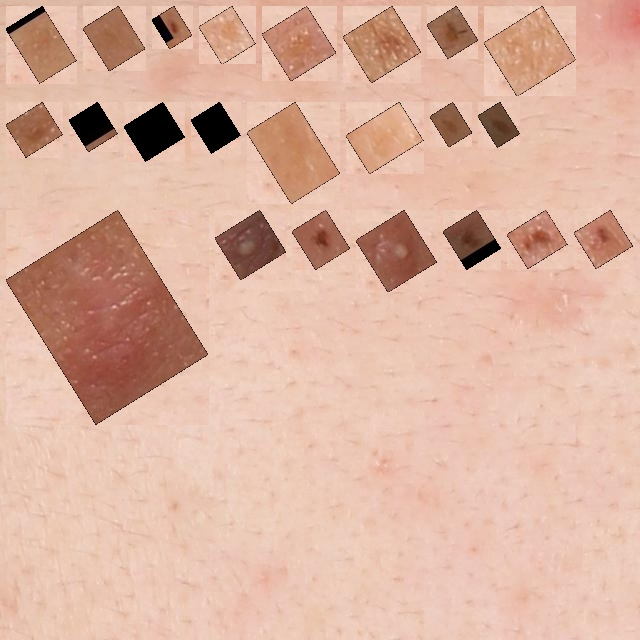hypertrophic_scar: (17, 221, 197, 413)
melasma: (258, 113, 329, 192), (495, 17, 565, 85), (273, 17, 325, 70), (357, 113, 412, 163), (17, 17, 65, 72), (94, 17, 134, 60), (135, 113, 174, 150), (210, 17, 244, 53), (17, 113, 52, 146), (202, 113, 229, 142), (80, 113, 106, 140)
nevus: (354, 17, 410, 72), (518, 221, 556, 257), (303, 221, 339, 258), (454, 221, 490, 258), (585, 221, 622, 257), (438, 17, 467, 47), (489, 113, 509, 136), (163, 17, 181, 38)
pustule: (367, 221, 426, 281), (226, 221, 275, 269)
